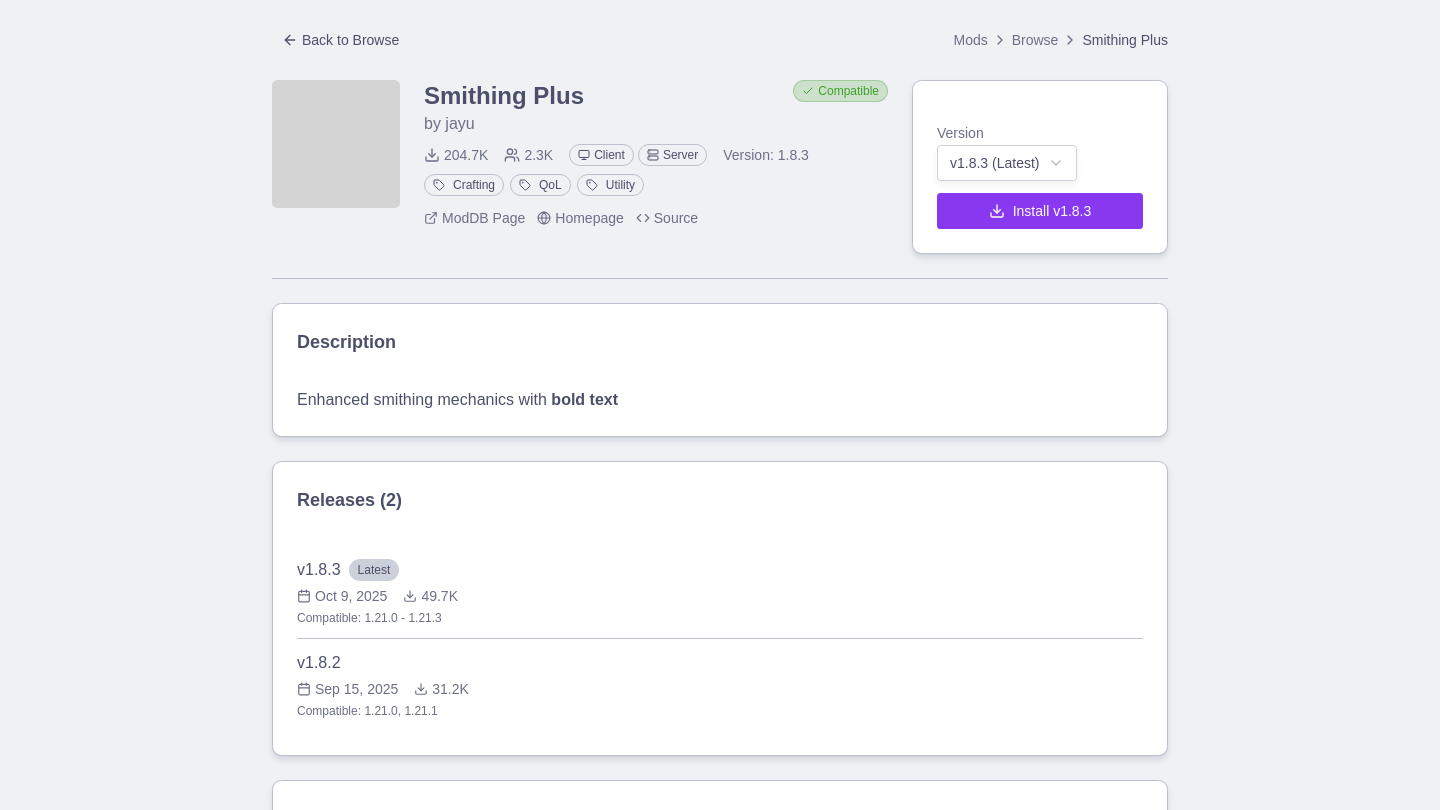
it: ModDetailPage › install/update section (Task 3) › confirmation dialog (Story 10.8) › opens confirmation dialog when Install button is clicked
Step 1. Click the button with test id "mod-detail-install-button" → x=1040, y=211, box [937,193,1143,229]
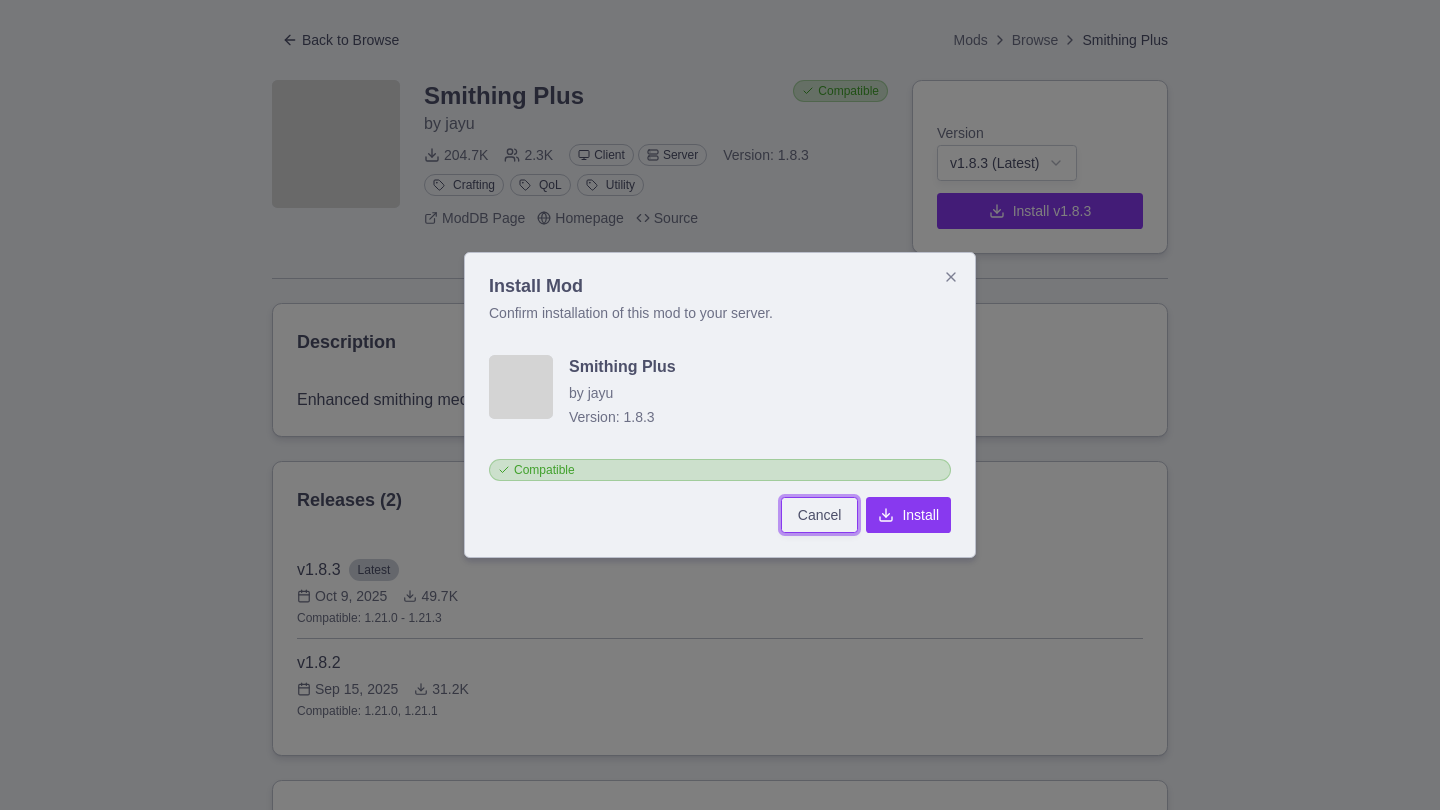
Now the dialog with test id "install-confirm-dialog" is shown, box [464,252,976,558]
Now the heading with test id "install-dialog-mod-name" reads "Smithing Plus", box [569,358,676,375]
